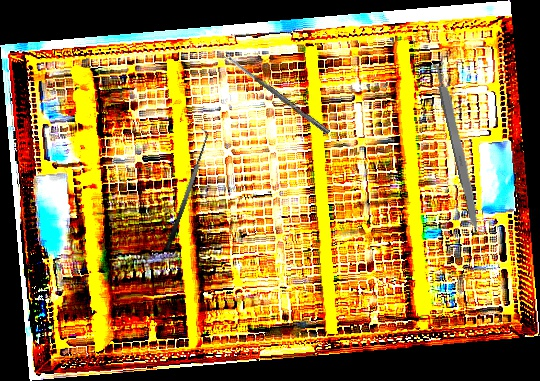Scalpel Handle: (433, 63, 484, 233)
Spatula Surgical: (154, 127, 216, 252)
Surgical Spoon: (222, 51, 331, 135)
